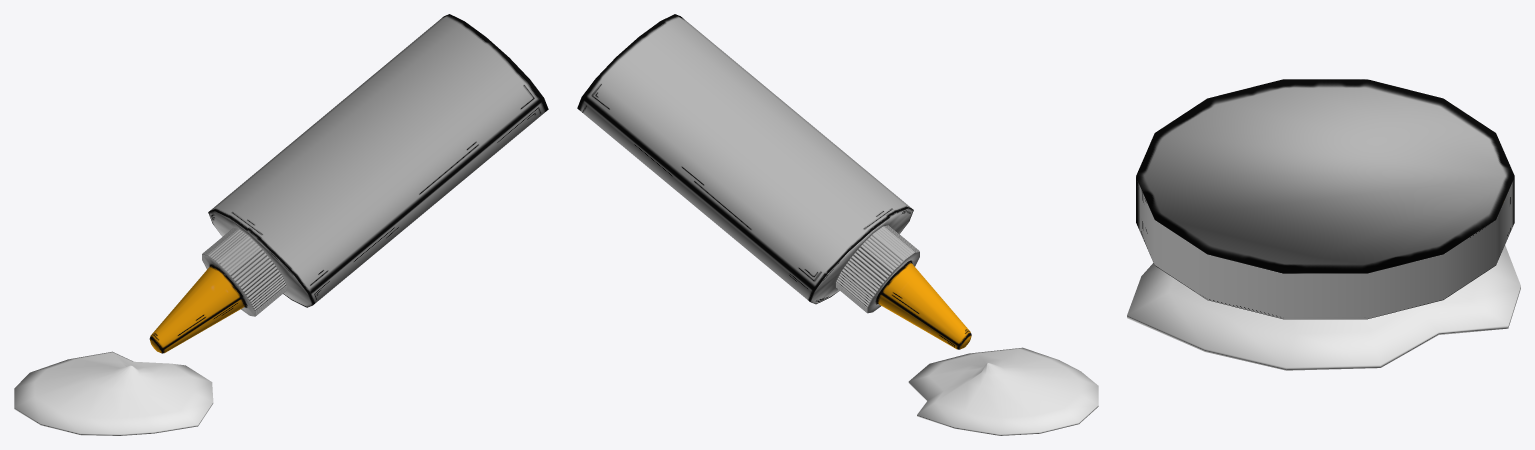
The model's file is GlueSpill.fbx.
3 views of the same model, side by side, from view 1: azimuth 30°, elevation 25°; view 2: azimuth 150°, elevation 25°; view 3: azimuth 270°, elevation 25° (orthographic). The views are drawn at different scales.
Parts seen in each view (by area): view 1: Cylinder, Circle; view 2: Cylinder, Circle; view 3: Cylinder, Circle.
Part boxes in pixels (x1,y1,x2,y2): Cylinder: (149,14,548,353); Circle: (14,351,213,435); Cylinder: (577,14,971,349); Circle: (908,347,1098,435); Cylinder: (1136,79,1514,319); Circle: (1127,245,1520,370).
Size of the model in its own units: 590 by 323 by 208.
